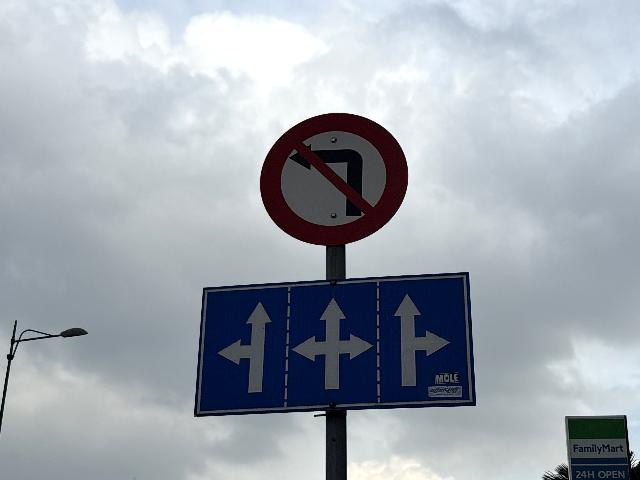cam-re-trai: (259, 110, 409, 248)
